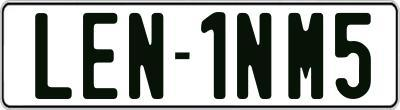1: (199, 10, 228, 99)
5: (335, 13, 375, 100)
E: (81, 11, 118, 101)
L: (32, 10, 72, 99)
M: (285, 13, 324, 102)
N: (129, 10, 165, 102), (236, 13, 270, 102)
